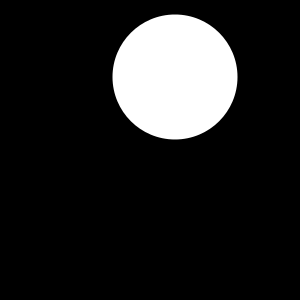rectangle: (112, 14, 238, 140)
